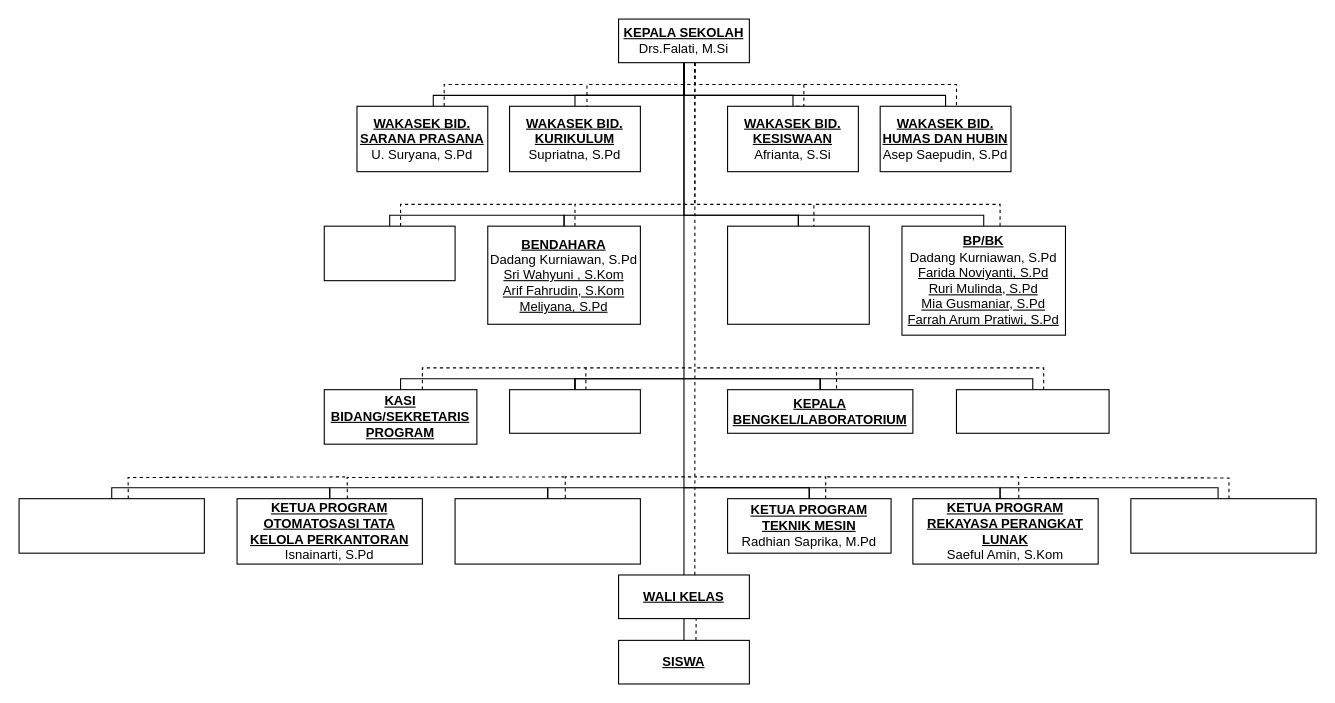
The diagram is 1335 pixels wide and 703 high, and some of its shapes have lost their labels. The centre of each missing label's shape, as x and y in pixels:
BURSA KERJA KHUSUS Evi Siti Fatimah, S.Pd: point (389, 253)
DAPODIK Ahmad Rosyidi, S.Pd Ahmad Sajidin, S.Kom Kuryanto, S.Kom Maesaroh, S.E: point (797, 274)
KEPALA UNIT: point (574, 411)
KETUA PROGRAM AKUTANSI DAN KEUANGAN LEMBAGA Lani Lusiani, M.Pd: point (547, 531)
KETUA PROGRAM TEKNIK KOMPUTER JARINGAN Iis Ela, SS, S.Pd, M.H: point (111, 525)
KETUA PROGRAM TEKNIK OTOMOTIF Soni Andriana, S.Pd: point (1223, 525)
PEMBINA EKSTRAKULIKULER: point (1032, 411)
